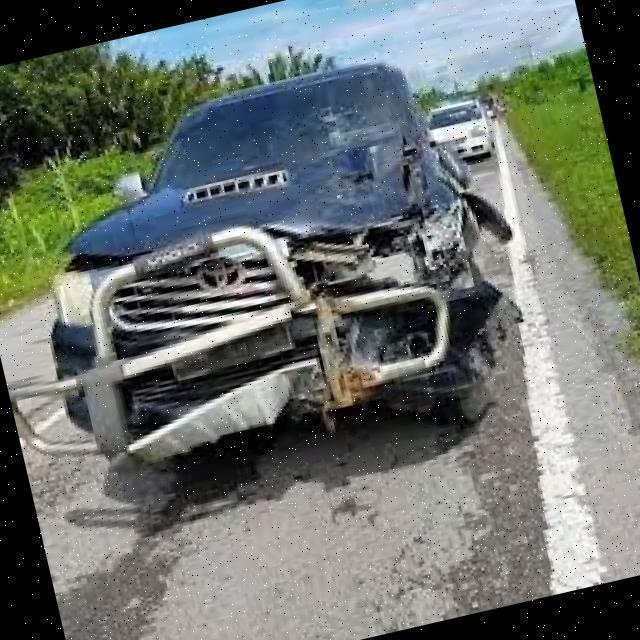accident: (73, 9, 581, 508)
